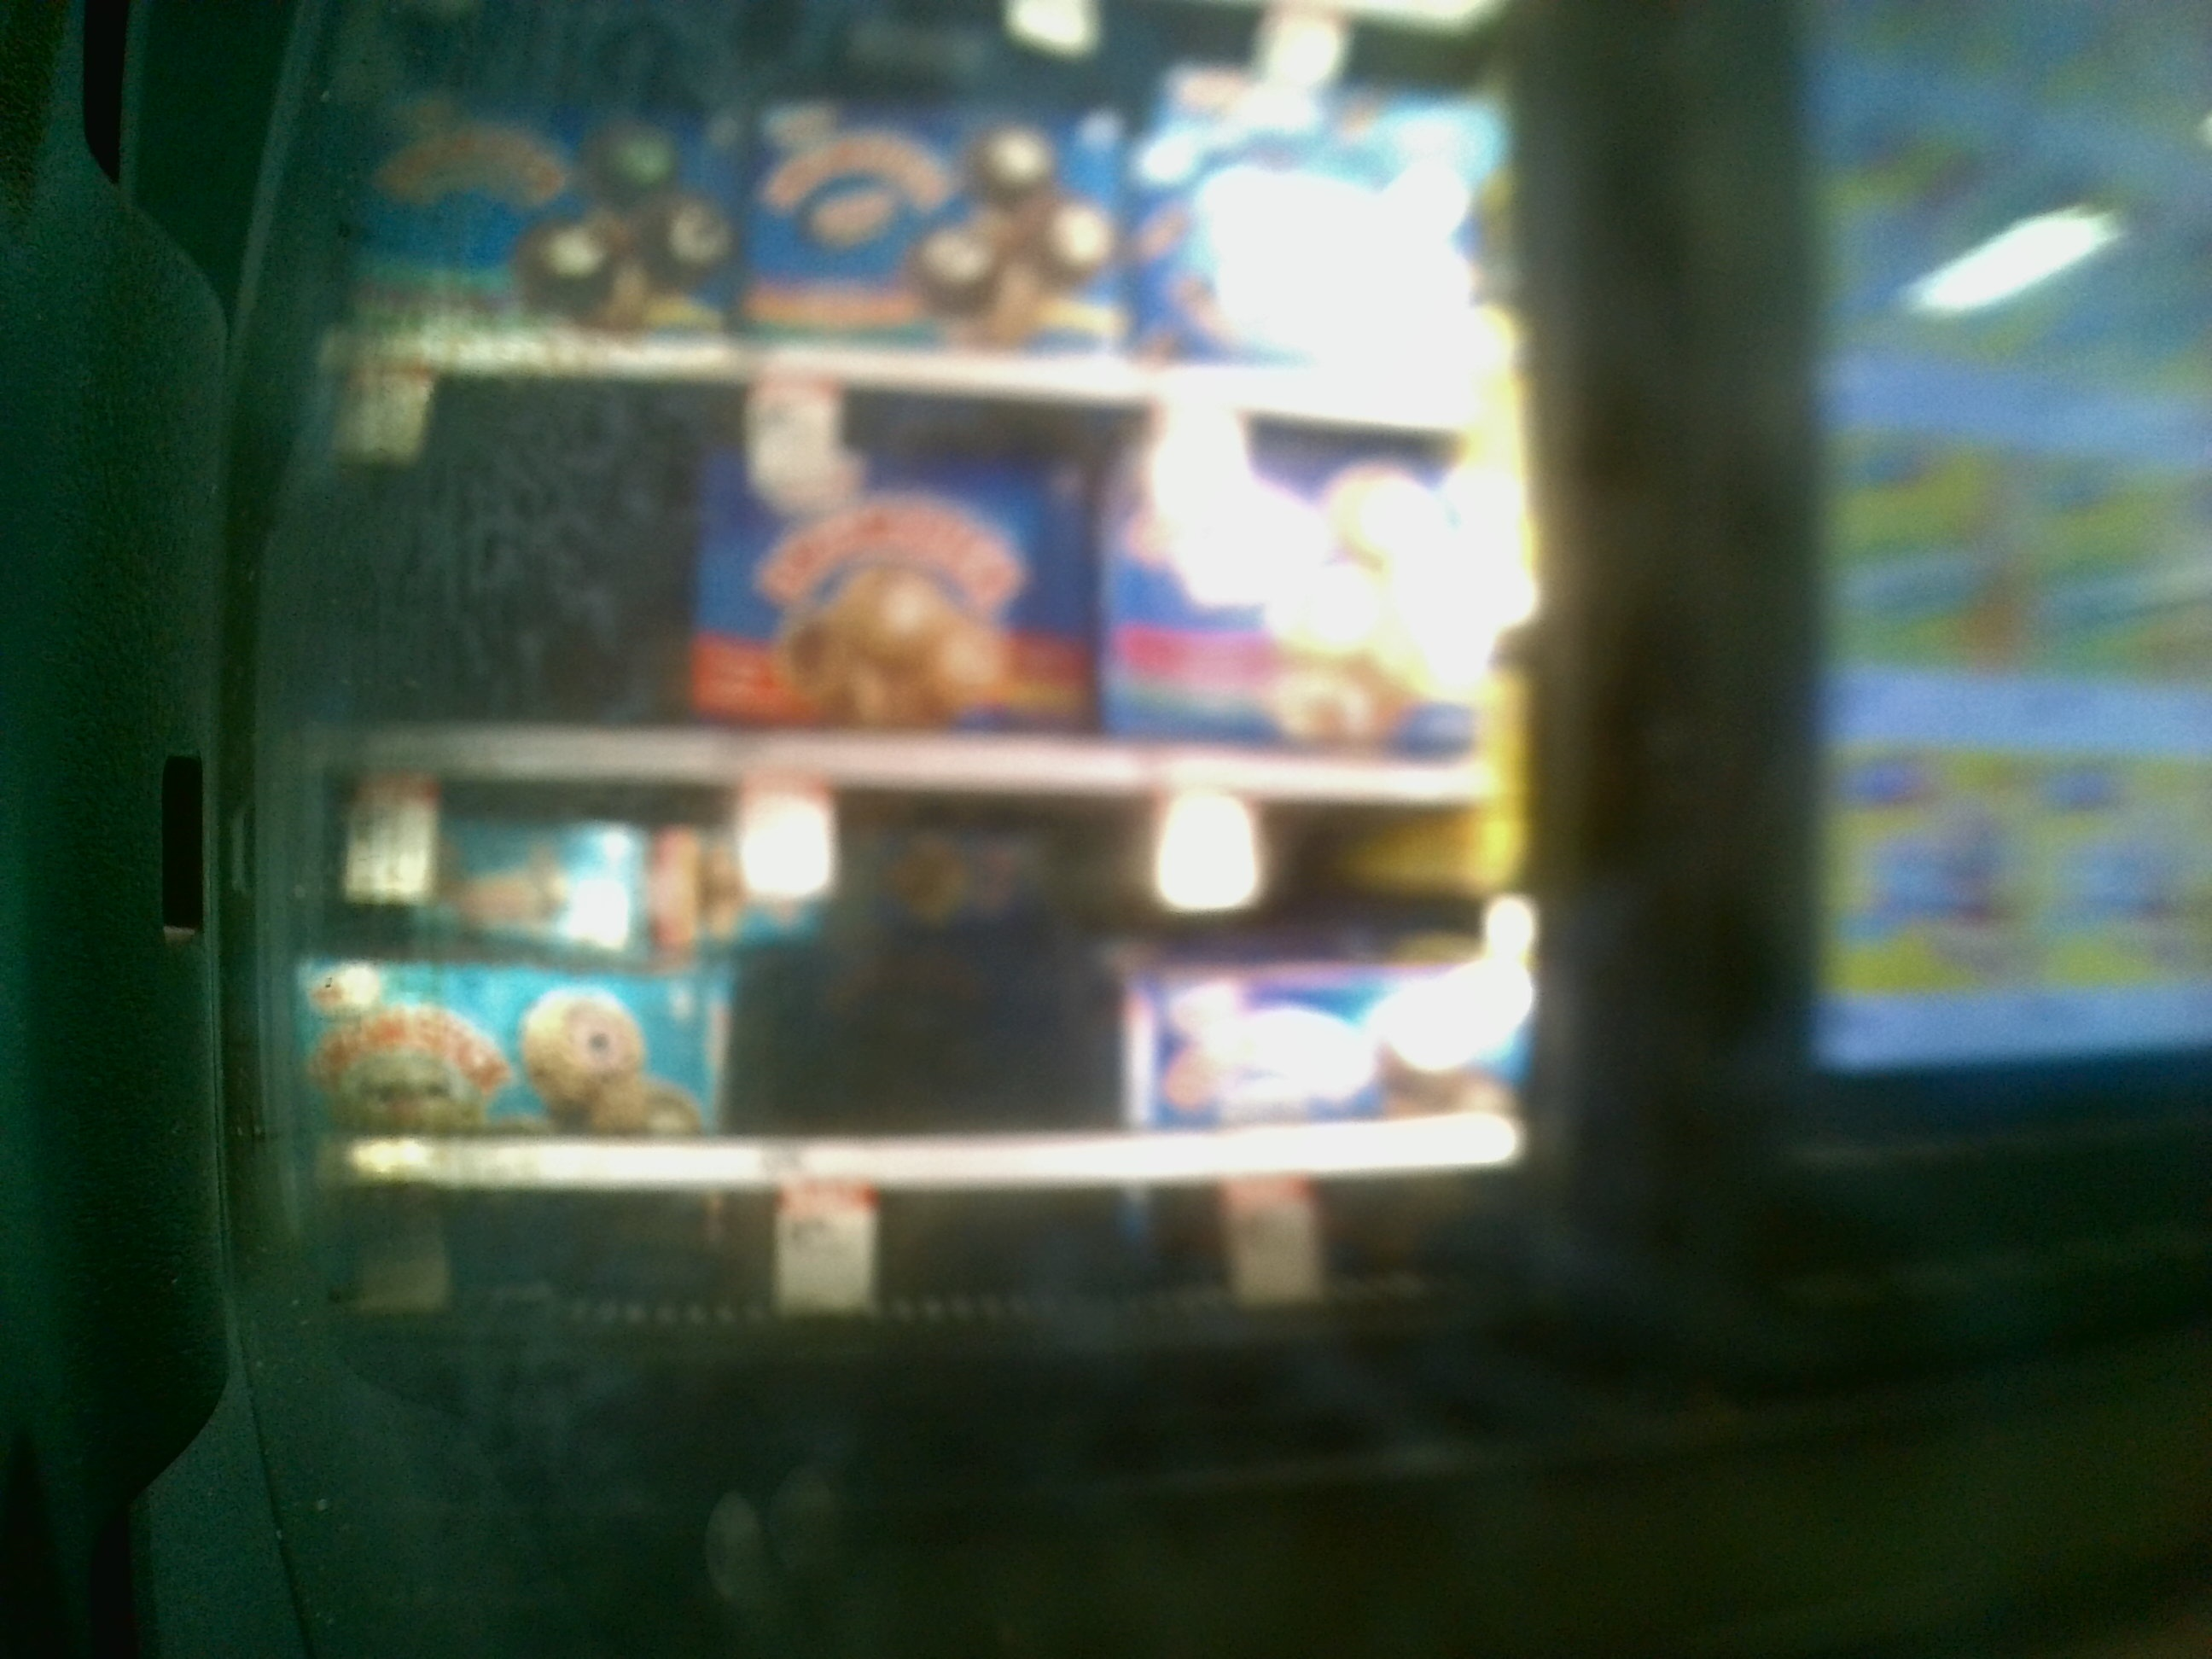shelf: (284, 355, 1519, 788), (279, 772, 1538, 1178)
